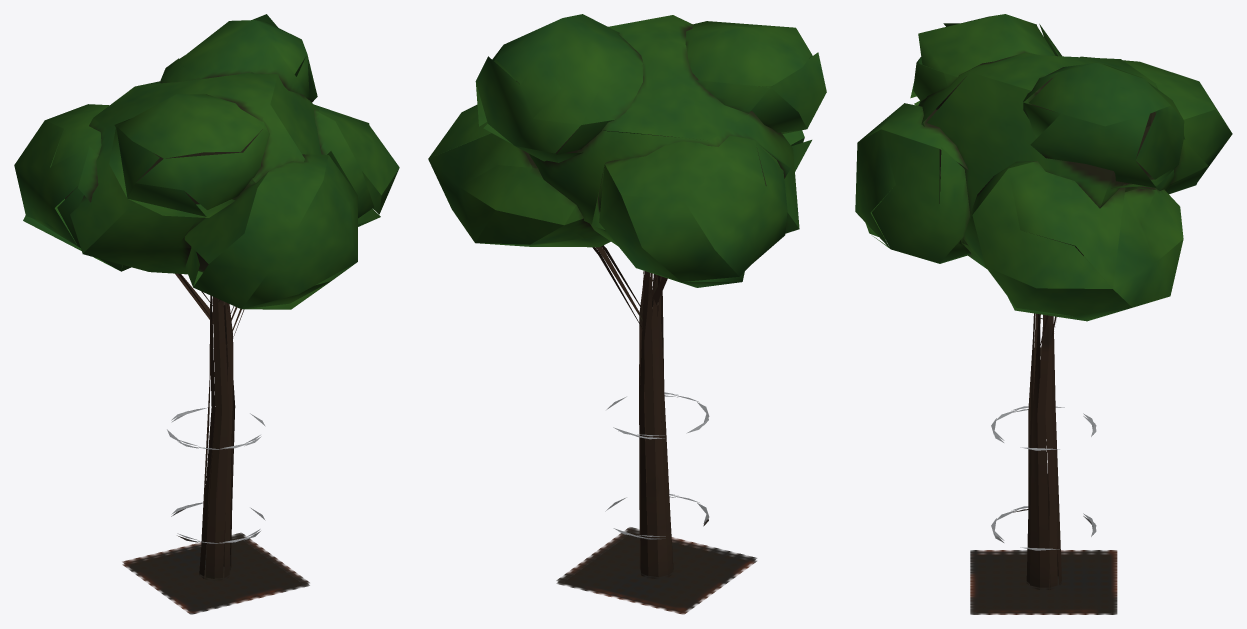
The model's file is street_tree_lod1.glb.
The picture shows the model from 3 angles, left to right: view 1: azimuth 30°, elevation 25°; view 2: azimuth 150°, elevation 25°; view 3: azimuth 270°, elevation 25°; orthographic projection. The views are drawn at different scales.
Visible parts, largest first — view 1: street_tree; view 2: street_tree; view 3: street_tree.
Part boxes in pixels (left/top/right/bottom): street_tree: left=14, top=14, right=399, bottom=614; street_tree: left=428, top=14, right=826, bottom=614; street_tree: left=855, top=14, right=1232, bottom=614.
Size of what is drawn, in the model's own units: 3.24 by 4.99 by 3.08.
1 material, 1 textured.
